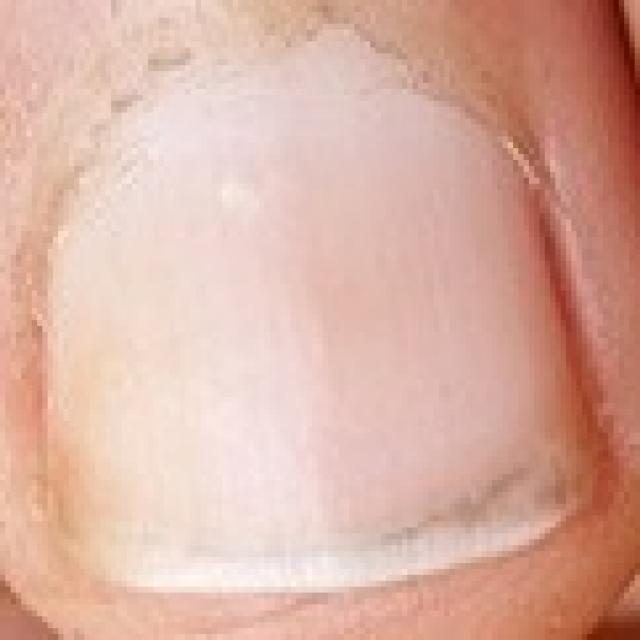Nail: (40, 58, 603, 590)
